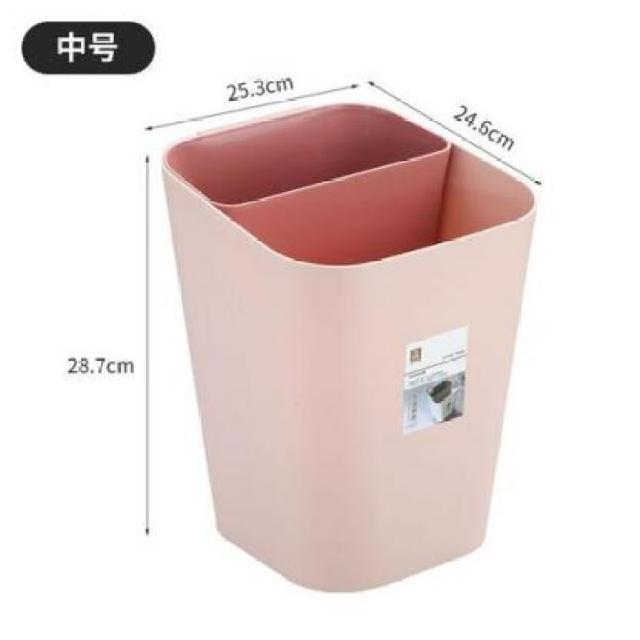dustbin: (155, 97, 540, 599)
